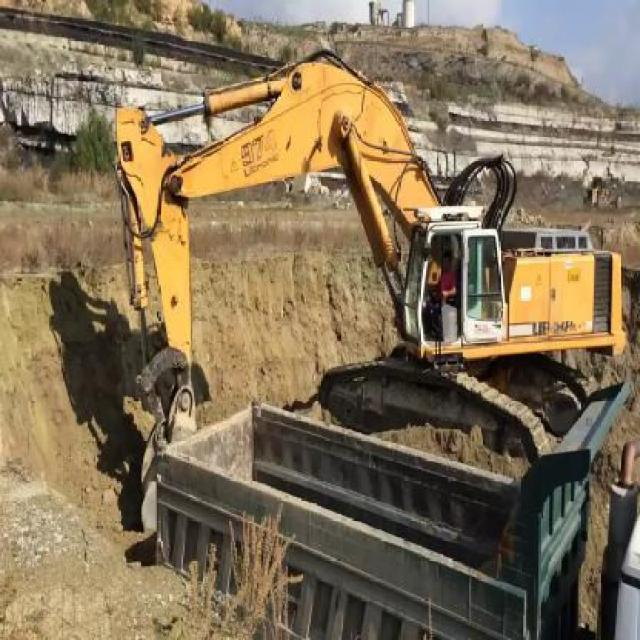dump_truck: (149, 375, 640, 639)
excavator: (112, 39, 631, 532)
